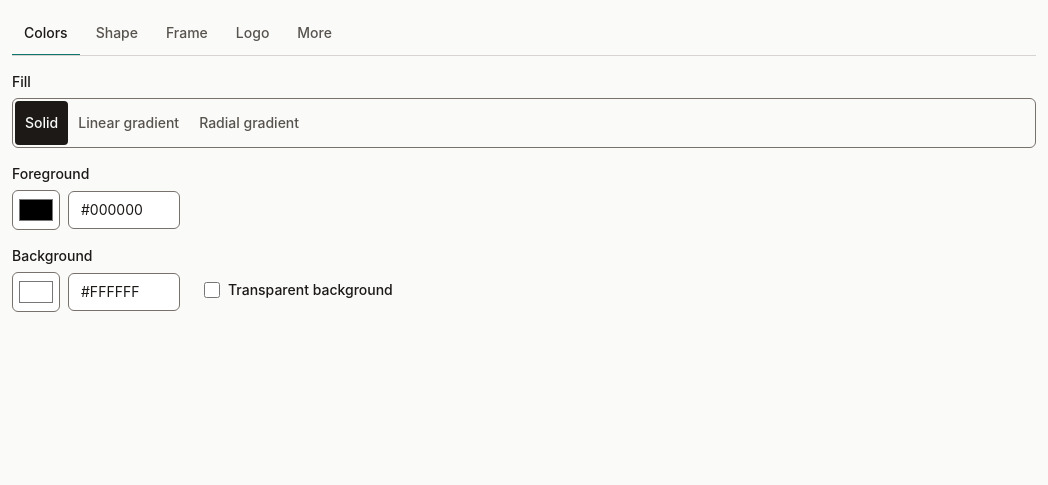
Scenario: DesignPanel tabs › switches groups by click and by arrow keys, keeping one tab in the tab order
Click the tab "Shape" at (117,34), box x1=84 y1=12 x2=150 y2=56
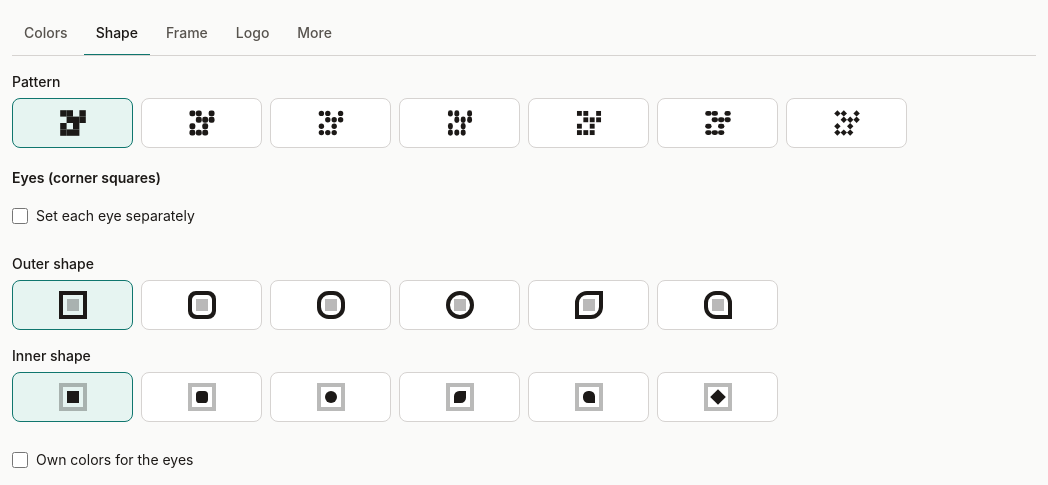
Now the element "Pattern" is shown, box x1=12 y1=72 x2=1036 y2=148
Now the text "Fill" is gone
Press ArrowRight in the tab "Shape", box x1=84 y1=12 x2=150 y2=56
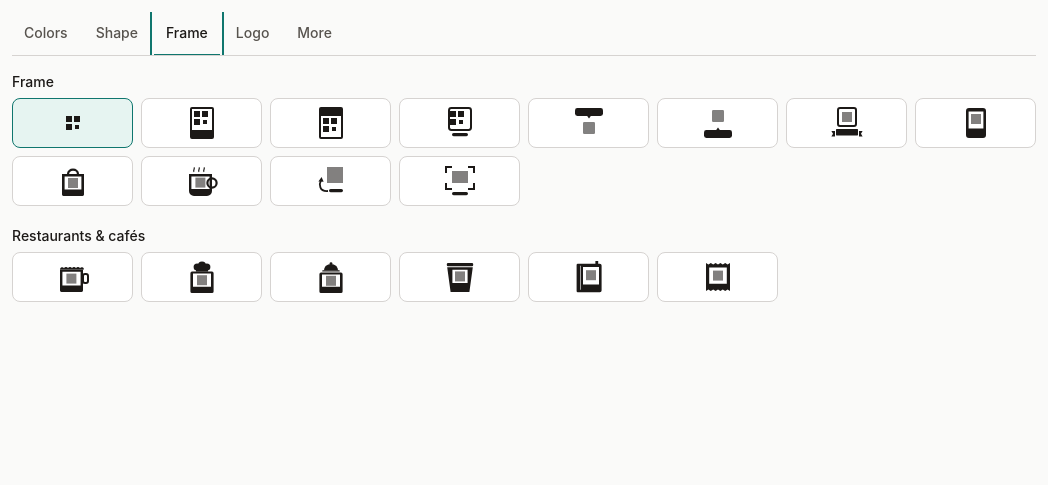
Now the element "Frame" is shown, box x1=12 y1=72 x2=1036 y2=206
Press End in the tab "Frame", box x1=154 y1=12 x2=220 y2=56
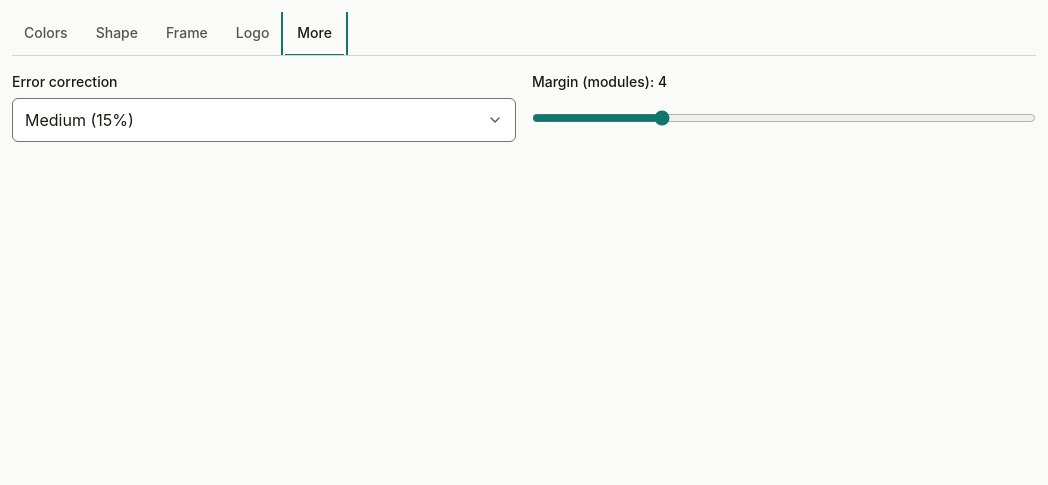
Now the dropdown labelled "Error correction" is shown, box x1=12 y1=98 x2=516 y2=142
Press ArrowRight in the tab "More", box x1=285 y1=12 x2=344 y2=56
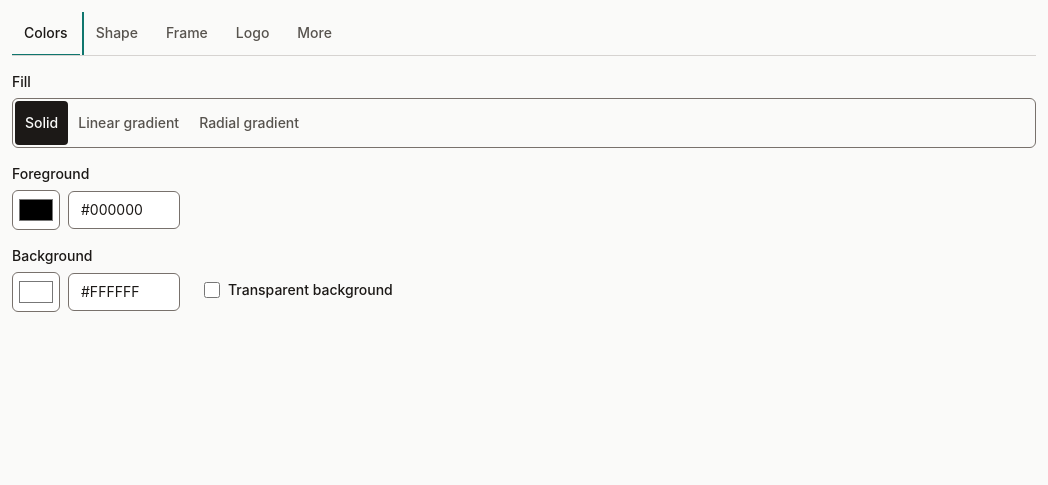
Now the tab "Colors" is selected
Press ArrowLeft in the tab "Colors", box x1=12 y1=12 x2=80 y2=56
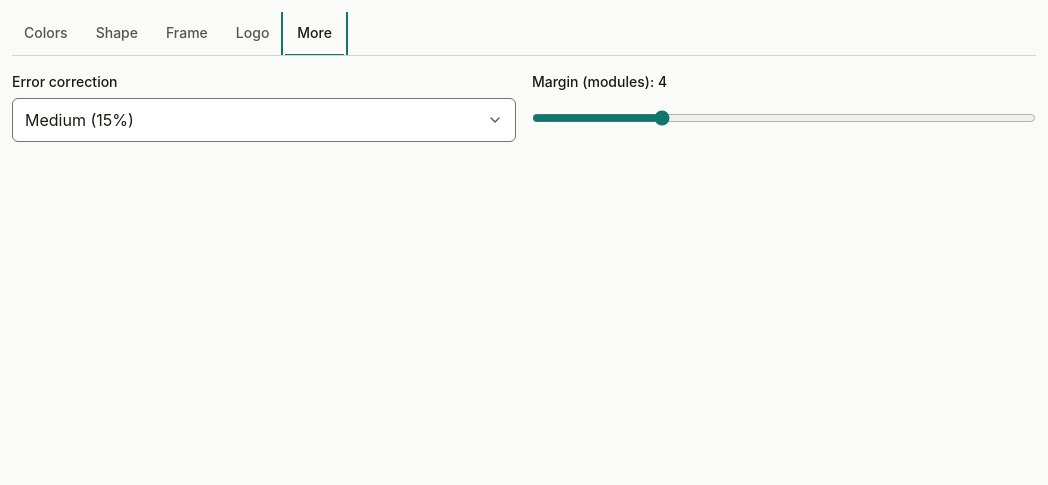
Now the tab "More" is selected, box x1=285 y1=12 x2=344 y2=56
